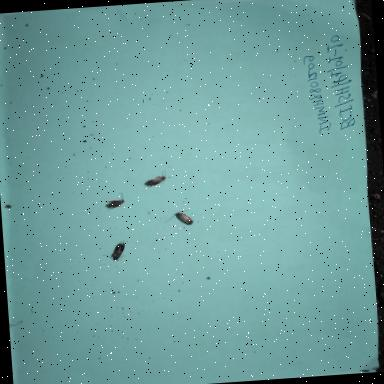pbw: (99, 234, 135, 268), (95, 190, 135, 216), (140, 166, 174, 195), (162, 207, 198, 230)
